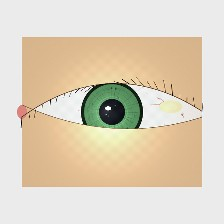pinguecula_lesion: (147, 88, 194, 125)
